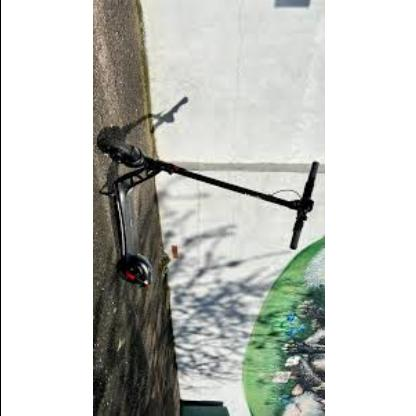bike: (95, 98, 321, 416)
